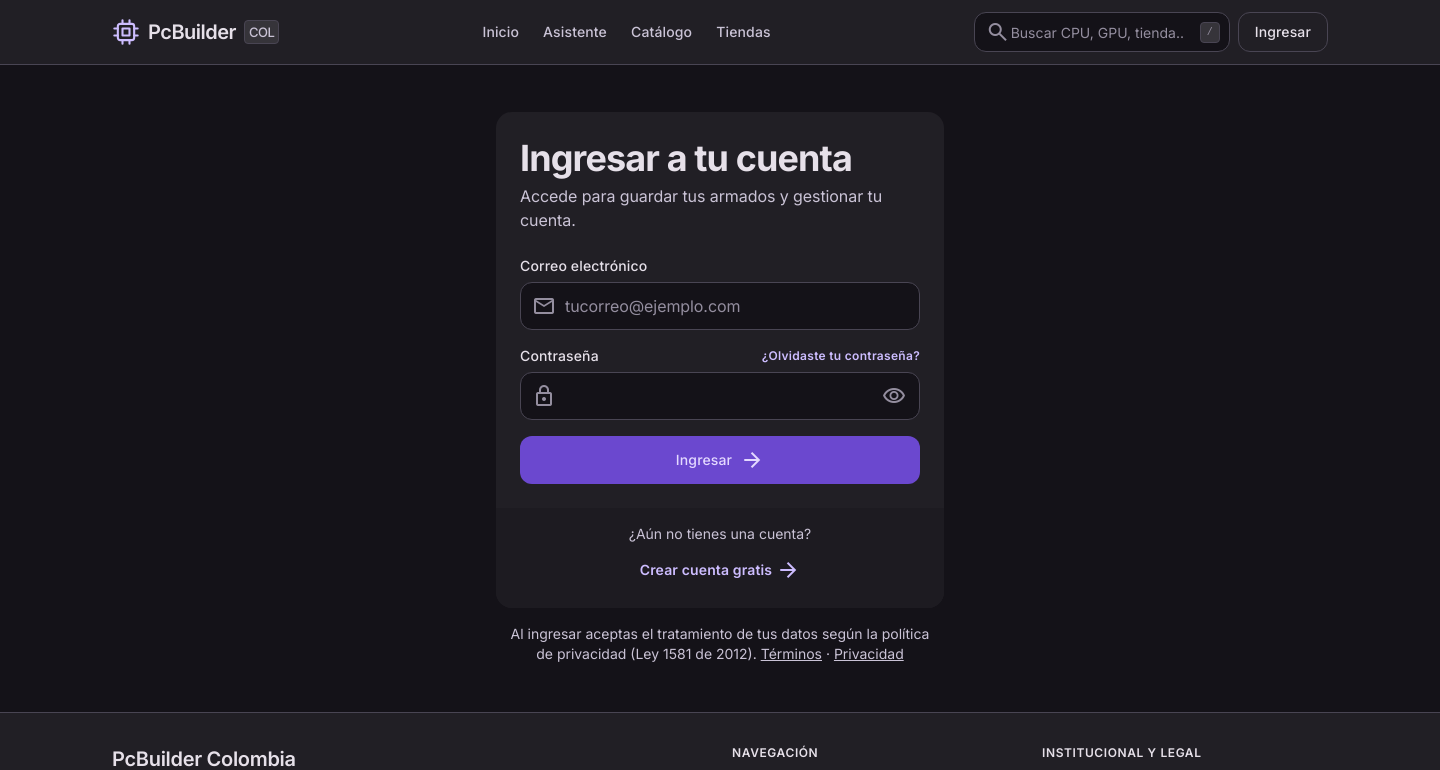
Scenario: Ingresar: validación › con un correo mal escrito lo dice junto al campo
The width and height of the screenshot is (1440, 770).
Expected: the password field labelled "Contraseña" is shown, [520, 372, 920, 420]
In the field labelled "Correo electrónico": (720, 306) [520, 282, 920, 330], type "no-es-correo"
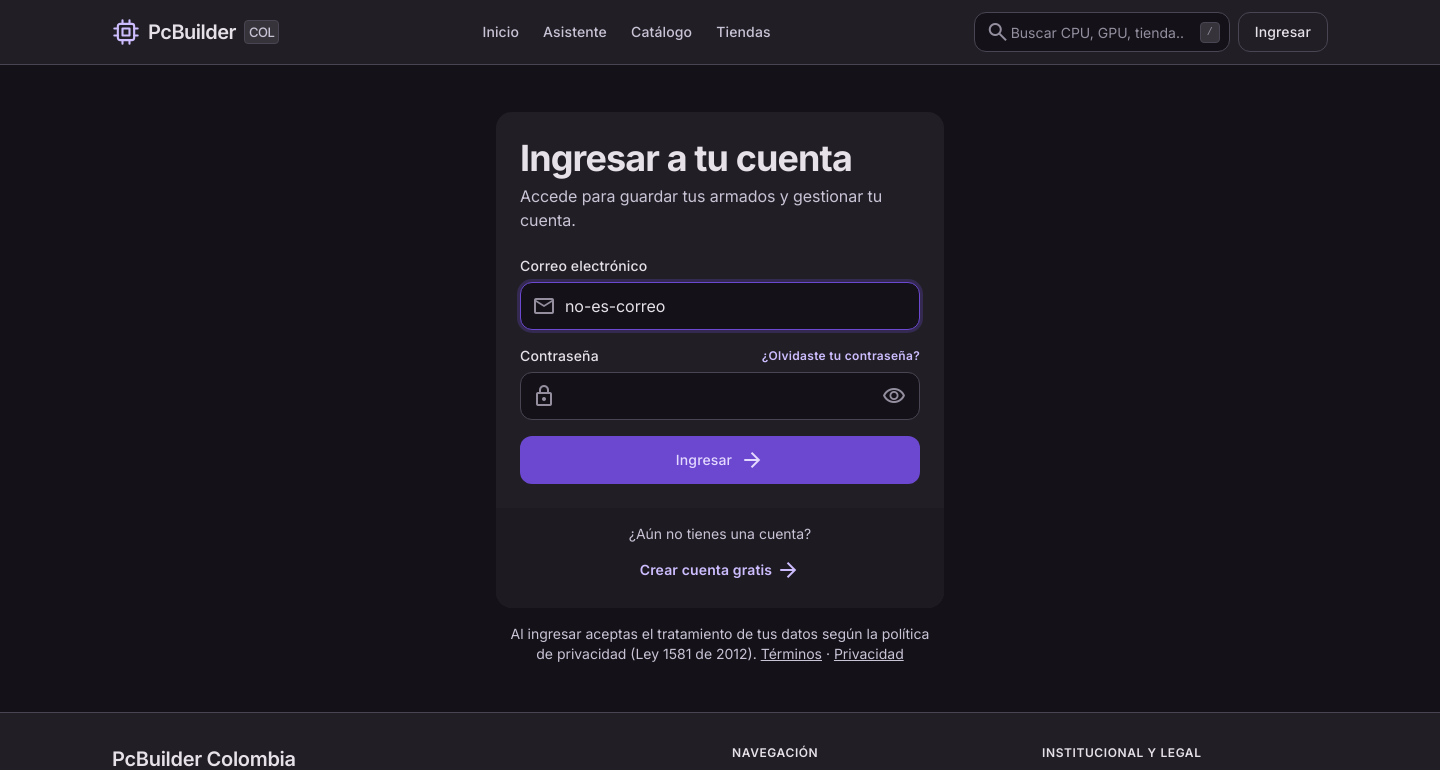
In the password field labelled "Contraseña": (720, 396) [520, 372, 920, 420], type "algo"
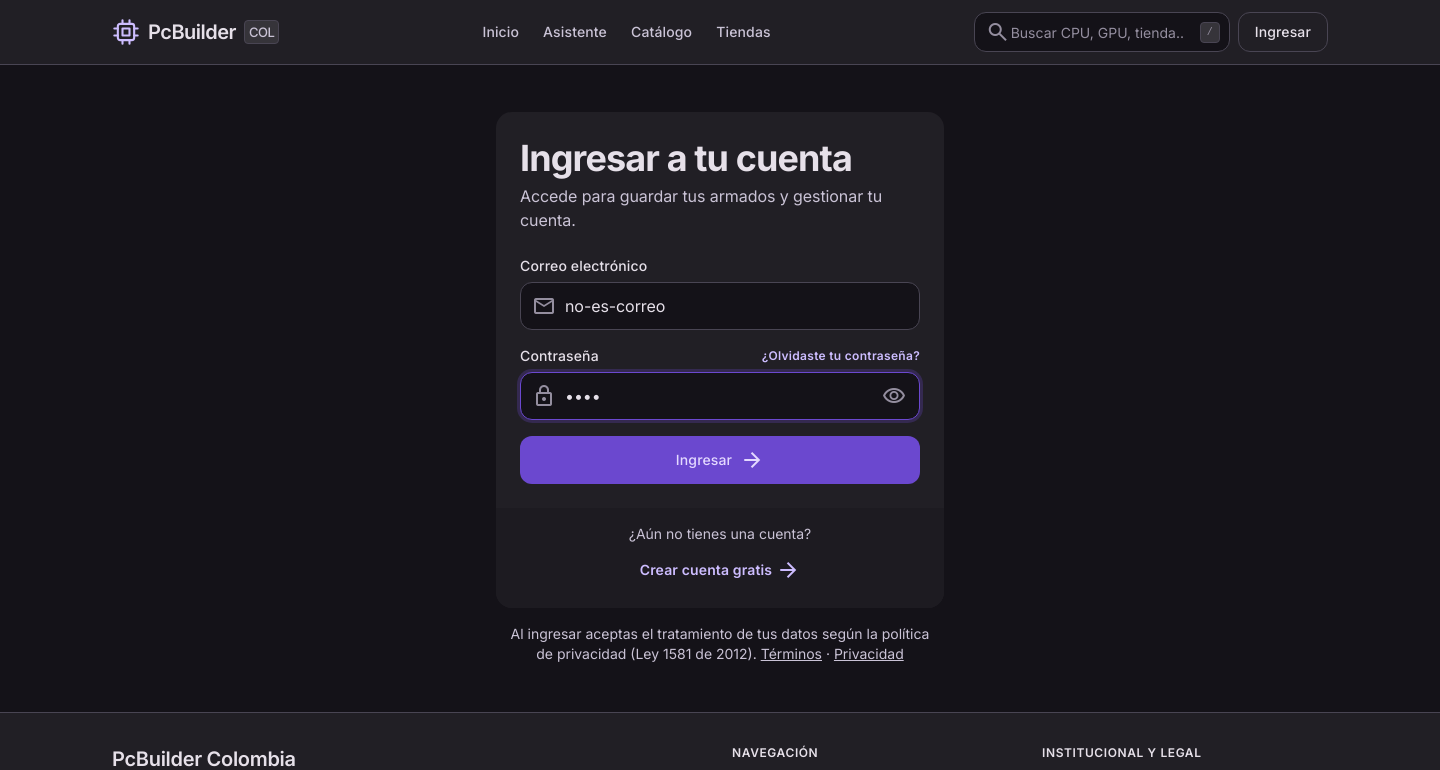
Click the button "Ingresar": click(720, 460) [520, 436, 920, 484]
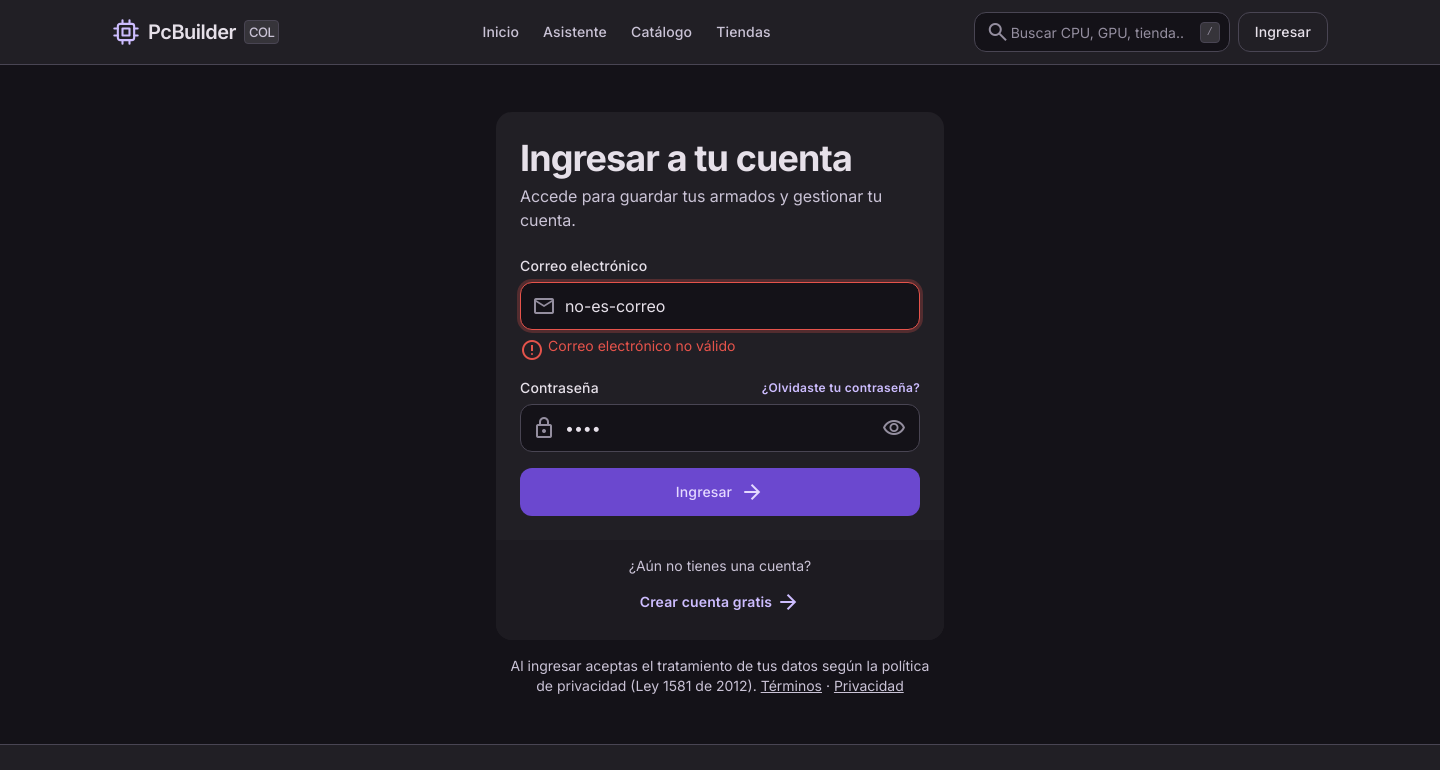
Expected: the text "Correo electrónico no válido" is shown, [548, 336, 735, 356]
